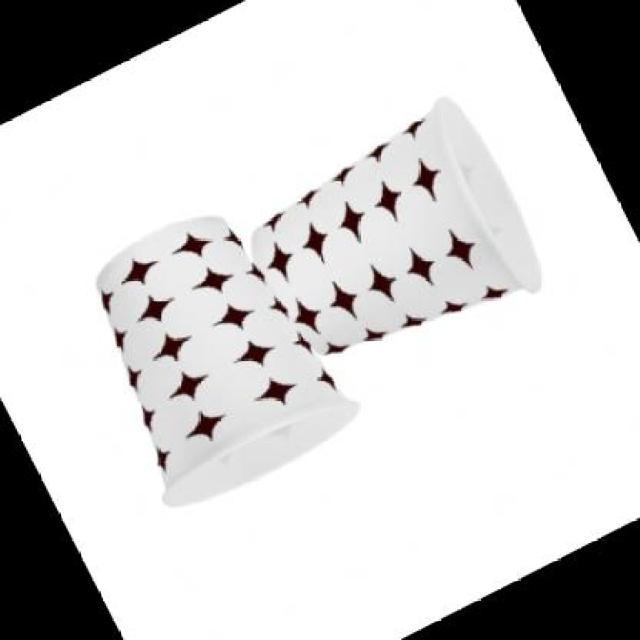non-biodegradable: (22, 163, 376, 552), (237, 77, 586, 401)
